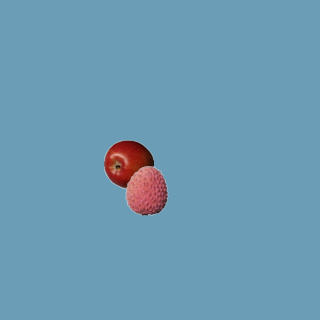Apple Braeburn: (103, 139, 153, 189)
Lychee: (121, 165, 171, 215)
